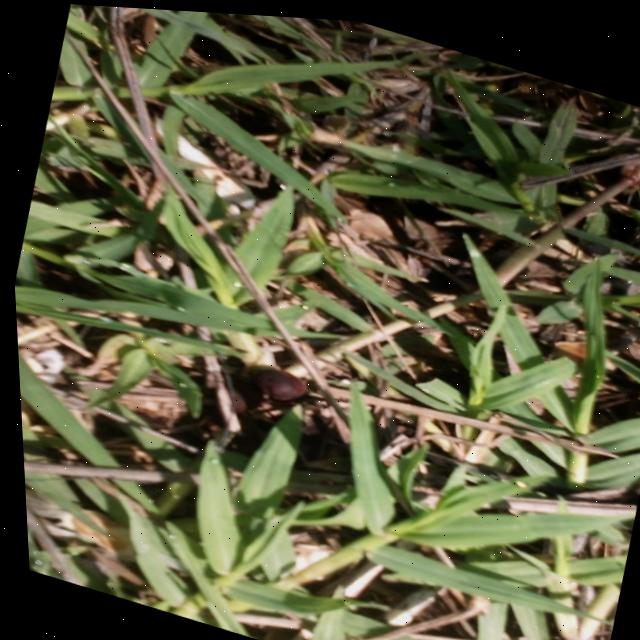Alive-Female-Dealate: (204, 328, 356, 444)
